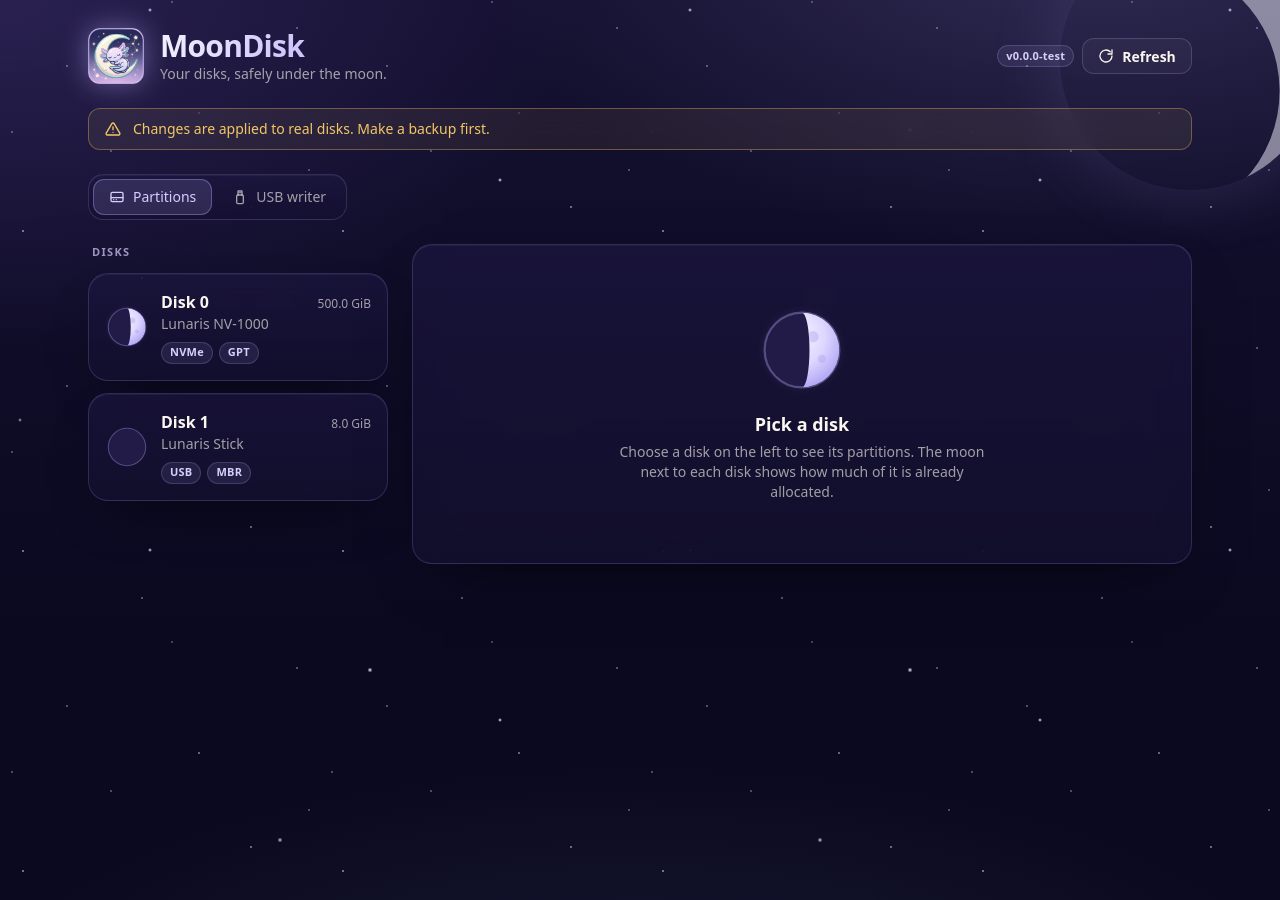
it: App › USB writer only offers USB drives
Expected: the text "Changes are applied to real disks. Make a backup first." is shown, [133,119,490,138]
Click the tab "USB writer" at (279, 197), box [216,179,342,215]
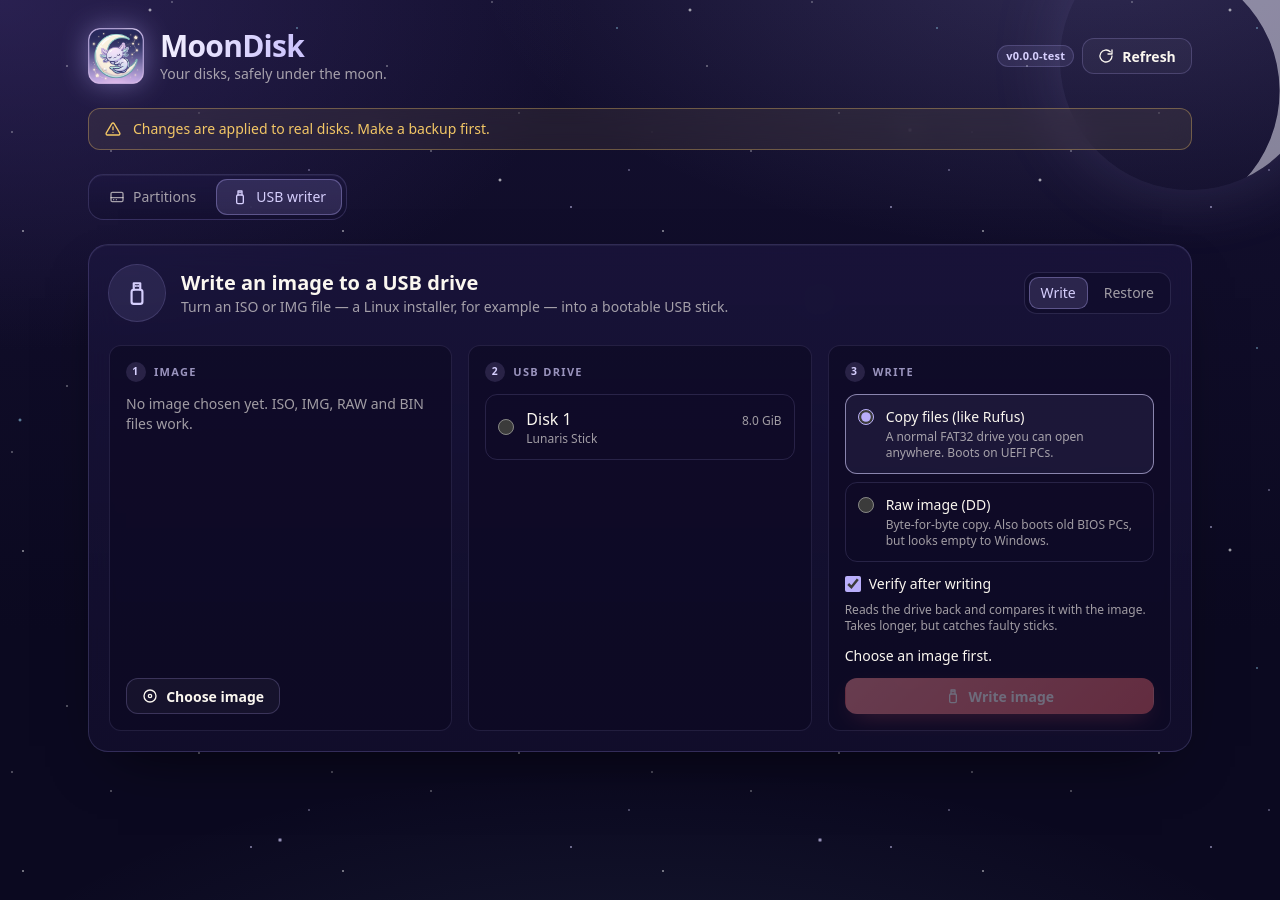
Expected: the radio button labelled "Disk 1 8.0 GiB Lunaris Stick" is enabled, [498,419,514,435]
Expected: the button "Disk 0" is gone
Expected: the button "Write image" is disabled, [845,678,1154,714]
